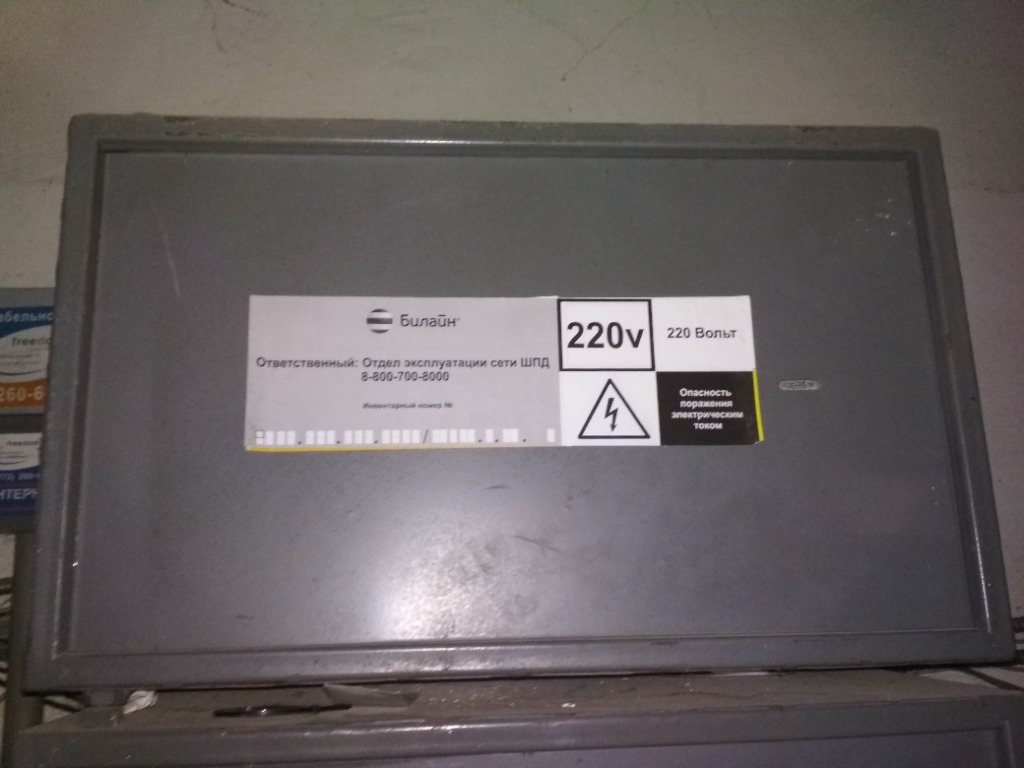e2-6u: (15, 111, 1013, 697)
